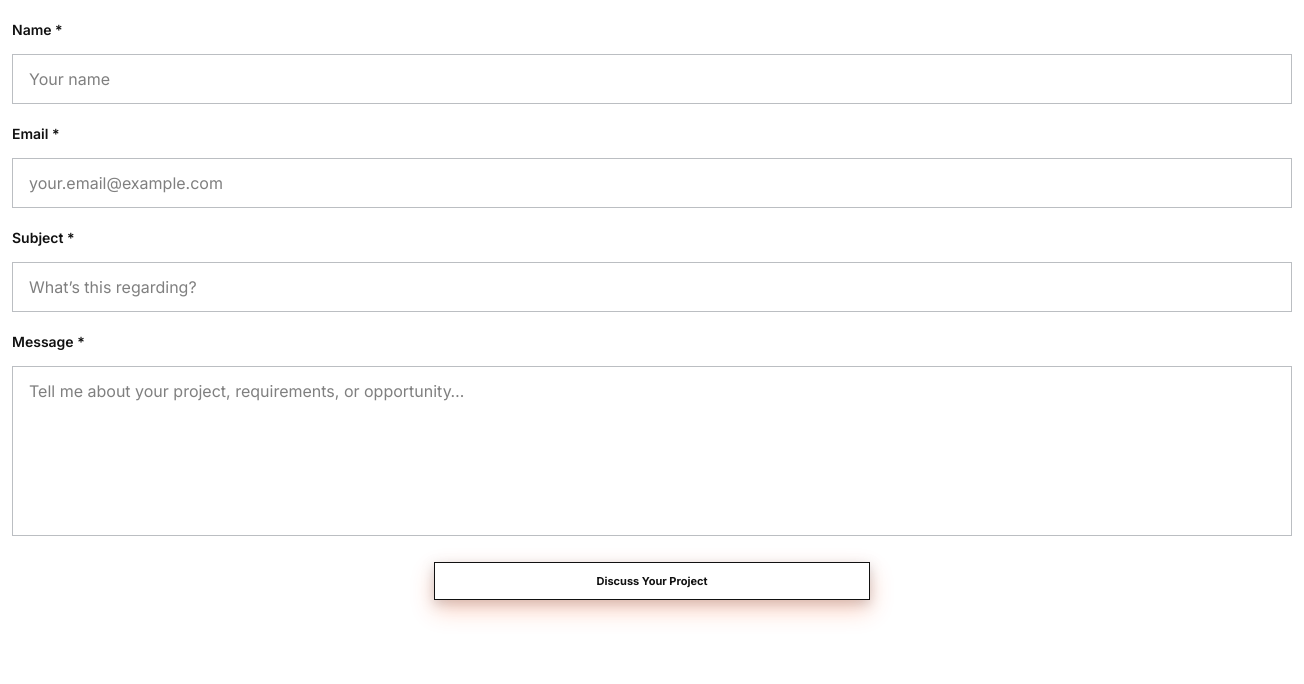
Test case: ContactForm › validates required fields
This screenshot has width=1304, height=684.
Click the button "Discuss Your Project": (652, 581) 434,562 -> 870,600
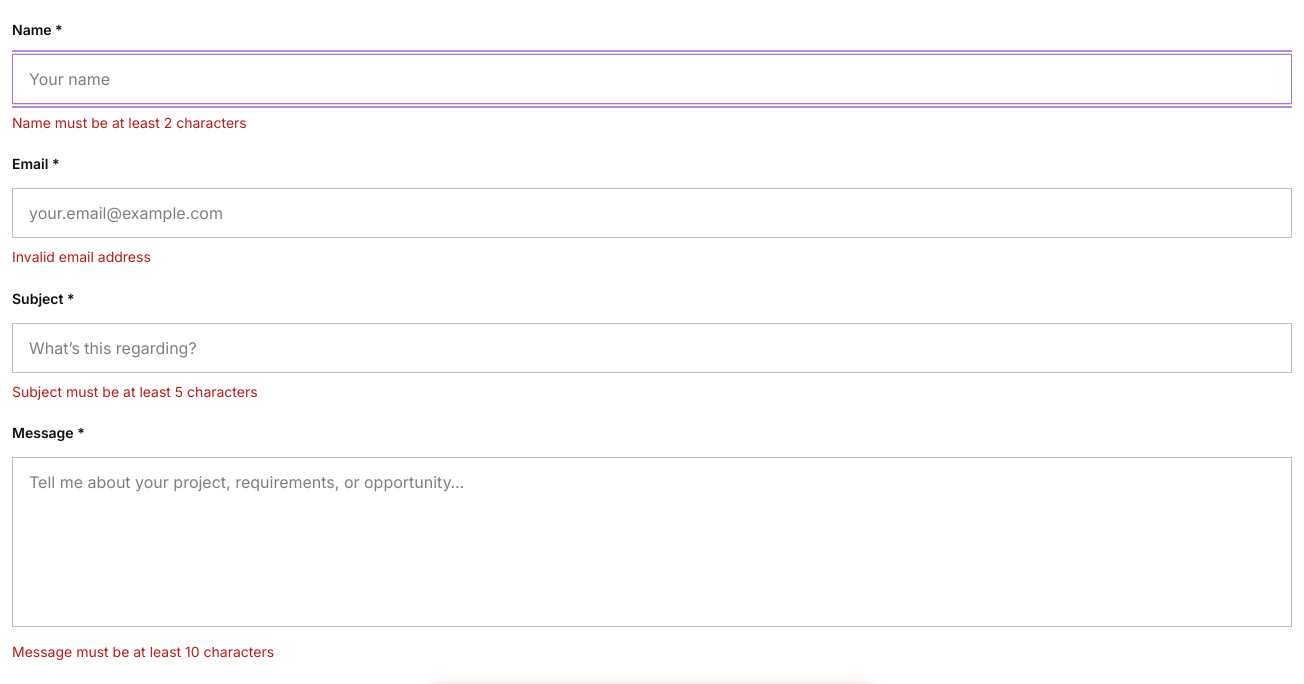
Check: the text "Name must be at least 2 characters" is shown, box 12,114 -> 247,131
